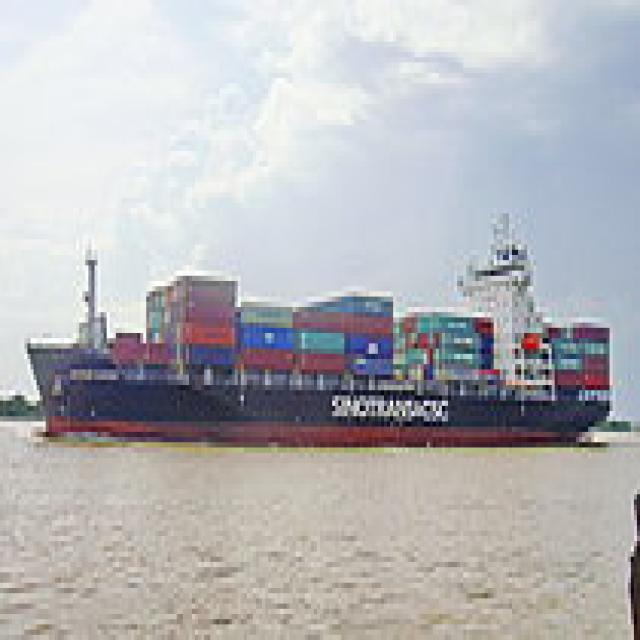Cargo: (21, 198, 612, 442)
